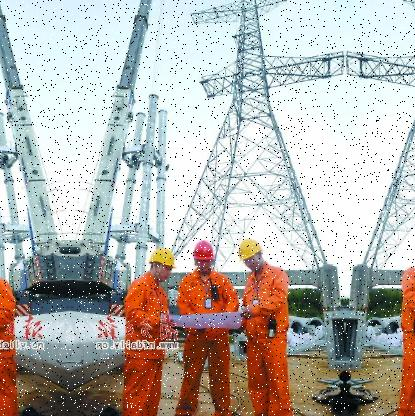helmet: (147, 241, 178, 283), (237, 232, 267, 270), (191, 236, 217, 276)
